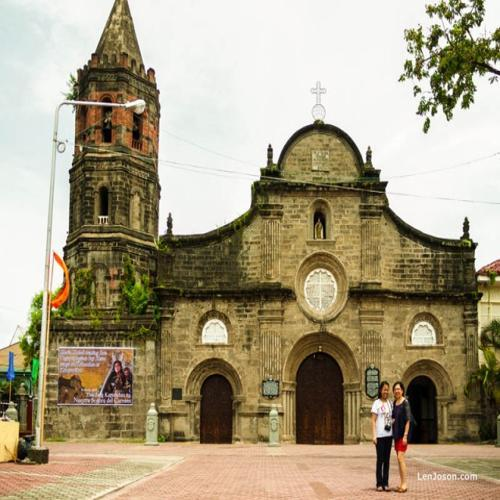Barasoain Church: (28, 1, 485, 446)
